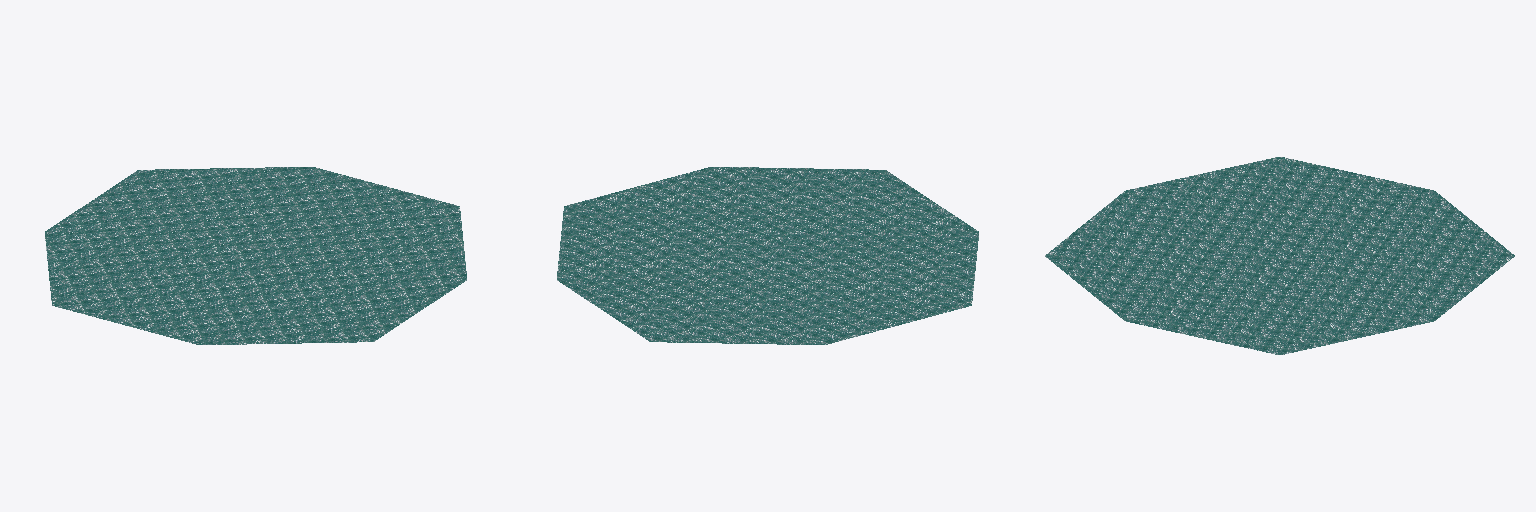
3 views of the same model, side by side, from view 1: azimuth 30°, elevation 25°; view 2: azimuth 150°, elevation 25°; view 3: azimuth 270°, elevation 25° (orthographic).
Visible parts, largest first — view 1: GiantWaterPlane_Plane; view 2: GiantWaterPlane_Plane; view 3: GiantWaterPlane_Plane.
Boxes of the visible parts, box(x1,y1,x2,y2) form: GiantWaterPlane_Plane: box(45, 167, 466, 344); GiantWaterPlane_Plane: box(557, 167, 978, 344); GiantWaterPlane_Plane: box(1045, 157, 1514, 354).
Size of the model in its own units: 200 by 0 by 200.
1 materials, 1 textured.